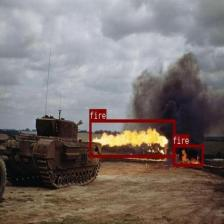fire: (89, 119, 175, 157), (172, 144, 204, 166)
